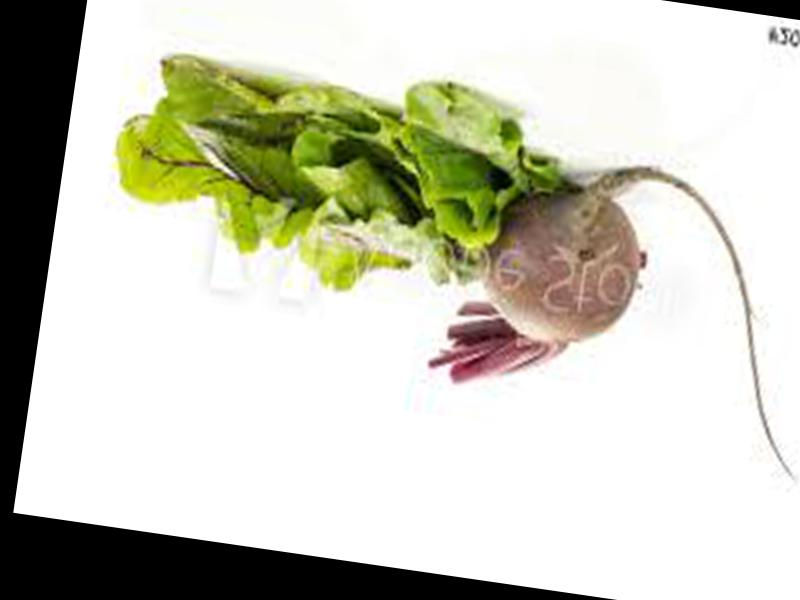Beet: (414, 138, 800, 483)
